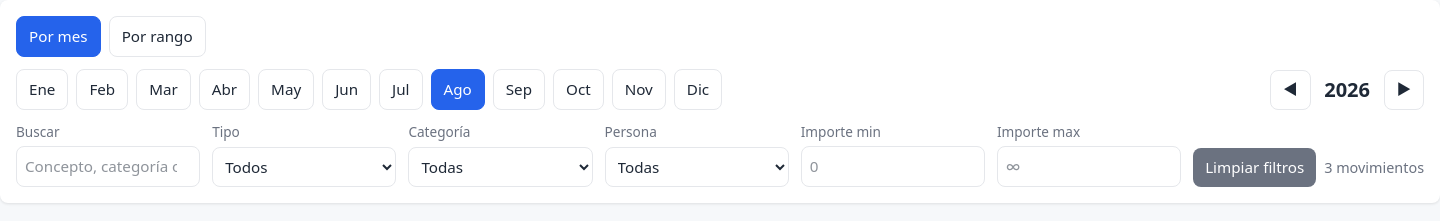
Test: TransactionFiltersBar › restores the max amount draft to the committed value on blur
In the field labelled "Importe max": (1089, 166) [997, 146, 1181, 187], type "12x"
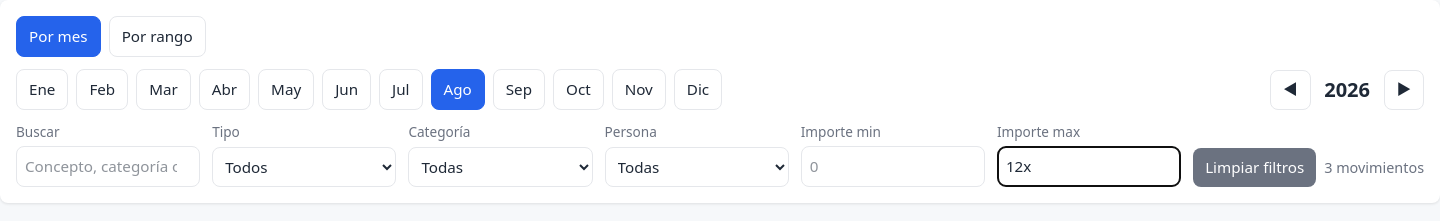
Leave the field labelled "Importe max", box [997, 146, 1181, 187]
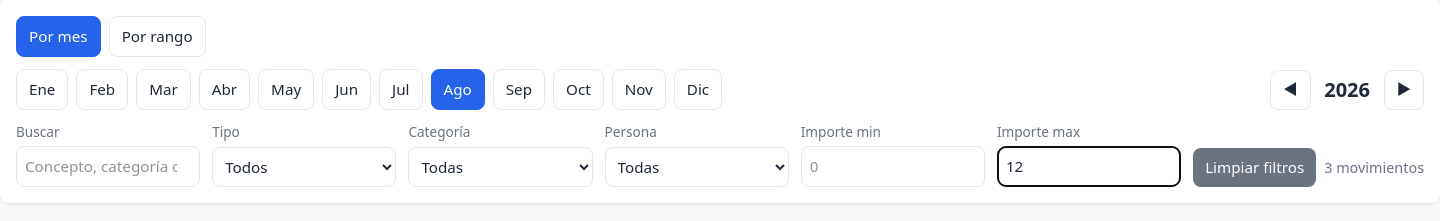
Expected: the field labelled "Importe max" holds "12", [997, 146, 1181, 187]
